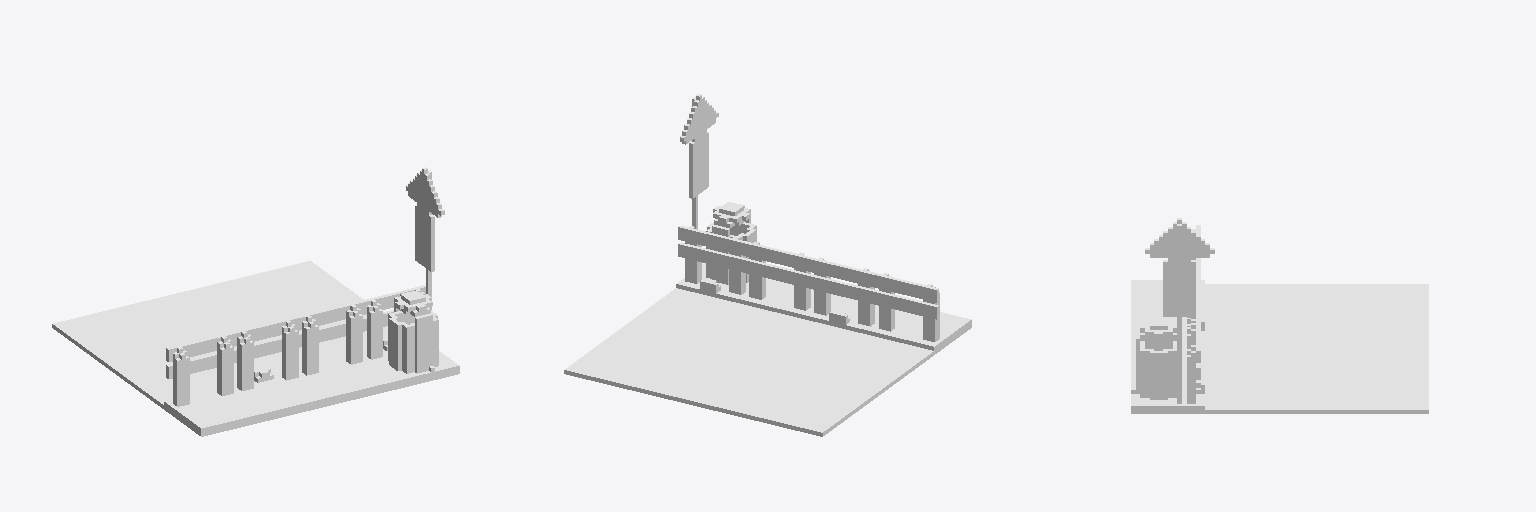
Rendered from Tutorialmap_V2_unfinished-60.obj.
3 renders of one model, left to right at view 1: azimuth 30°, elevation 25°; view 2: azimuth 150°, elevation 25°; view 3: azimuth 270°, elevation 25°, orthographic.
Parts seen in each view (by area): view 1: object 1; view 2: object 1; view 3: object 1.
Part boxes in pixels (left/top/right/bottom): object 1: left=52, top=167, right=459, bottom=436; object 1: left=564, top=94, right=971, bottom=436; object 1: left=1131, top=218, right=1428, bottom=413.
Size of the model in its own units: 6.4 by 4.5 by 6.4.